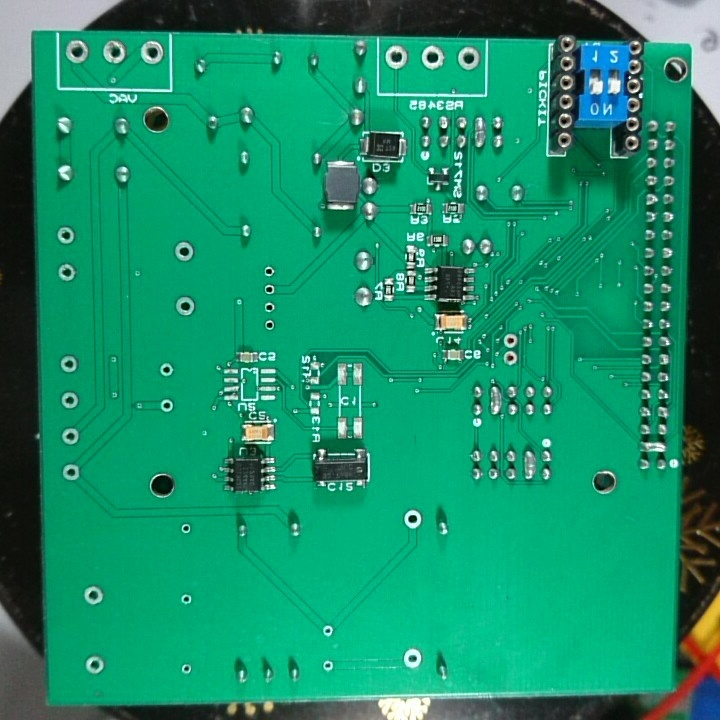F: (138, 40, 166, 69), (63, 37, 91, 66), (382, 44, 409, 74), (419, 44, 445, 75), (456, 46, 482, 75), (102, 38, 127, 68), (81, 583, 106, 611), (83, 652, 108, 680), (403, 507, 425, 535), (171, 241, 197, 264), (402, 646, 424, 673), (173, 294, 196, 318), (59, 424, 81, 449), (58, 352, 79, 378), (59, 389, 81, 413), (54, 225, 77, 246), (60, 461, 80, 484), (56, 261, 76, 283), (156, 360, 176, 380), (158, 395, 176, 417), (178, 517, 193, 541), (320, 623, 339, 640), (502, 349, 519, 368), (179, 589, 194, 609), (503, 332, 519, 349), (321, 657, 336, 675), (179, 661, 194, 678), (261, 265, 276, 281), (262, 300, 276, 315), (264, 317, 276, 334), (263, 282, 275, 297)
P: (521, 446, 537, 486), (638, 438, 670, 457), (488, 383, 504, 419), (473, 114, 486, 150)
